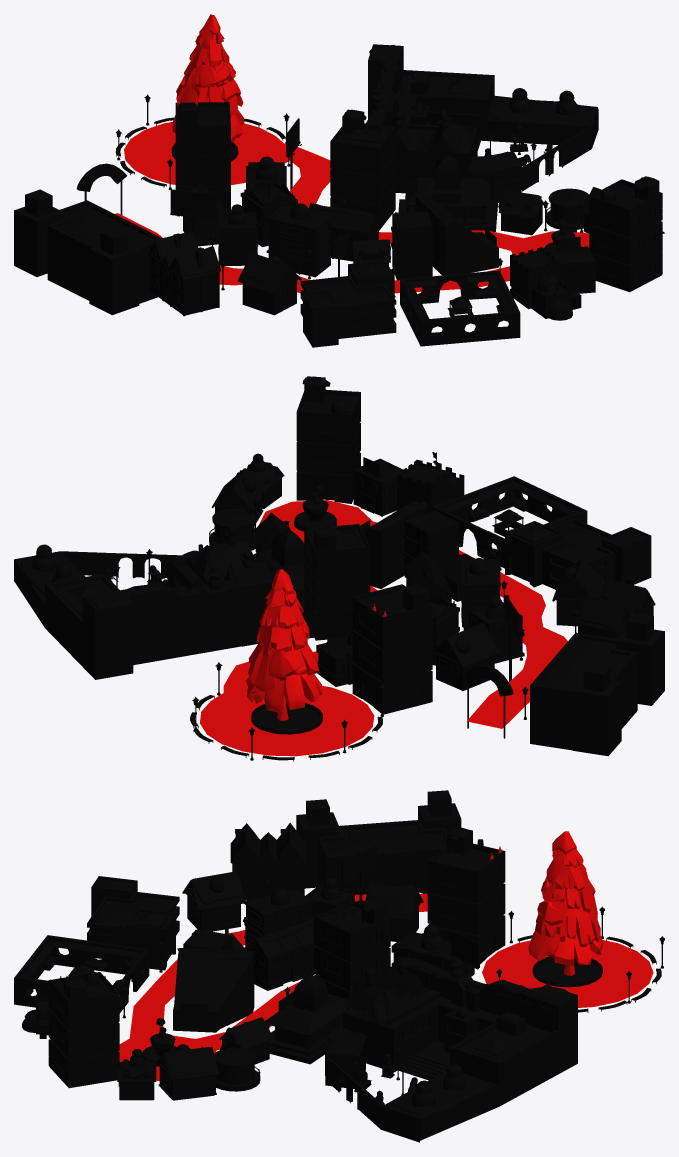
Rendered from NeighBorhood_PenguPlazaLocked.glb.
The picture shows the model from 3 angles, top to bottom: view 1: azimuth 30°, elevation 25°; view 2: azimuth 150°, elevation 25°; view 3: azimuth 270°, elevation 25°; orthographic projection. The views are drawn at different scales.
Parts seen in each view (by area): view 1: NeighBorhood_PenguPlazaLocked_FeathersFloof, pCylinder3, Tree_168; view 2: NeighBorhood_PenguPlazaLocked_FeathersFloof, pCylinder3, Tree_168; view 3: NeighBorhood_PenguPlazaLocked_FeathersFloof, pCylinder3, Tree_168.
Part boxes in pixels (<box>): NeighBorhood_PenguPlazaLocked_FeathersFloof: <box>14,44,664,347</box>; pCylinder3: <box>115,122,589,293</box>; Tree_168: <box>172,14,244,141</box>; NeighBorhood_PenguPlazaLocked_FeathersFloof: <box>14,376,664,761</box>; pCylinder3: <box>200,500,567,756</box>; Tree_168: <box>246,569,322,720</box>; NeighBorhood_PenguPlazaLocked_FeathersFloof: <box>14,790,664,1142</box>; pCylinder3: <box>118,893,653,1080</box>; Tree_168: <box>528,831,602,975</box>.
Bounding box in the file's own units: 67.55 × 18.57 × 63.69.
